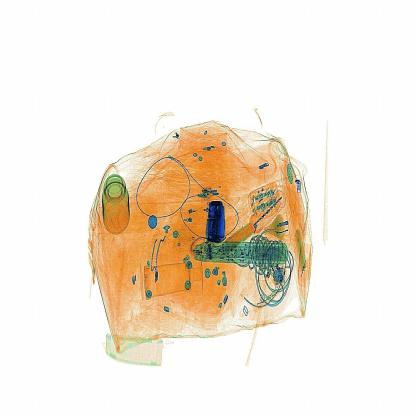scissors: (202, 193, 231, 244)
